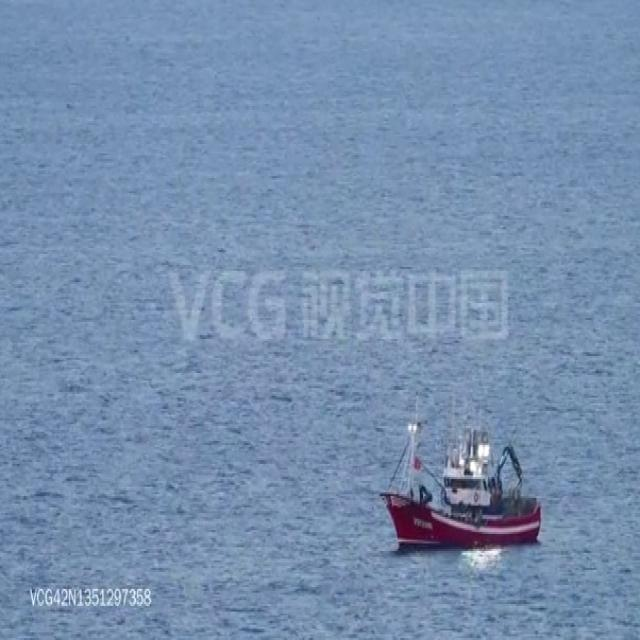fishing boat: (382, 413, 543, 552)
